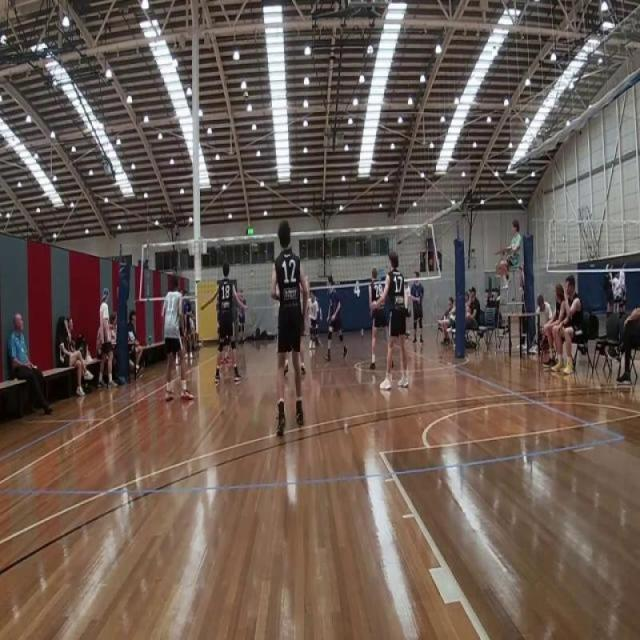volleyball: (242, 88, 250, 104)
